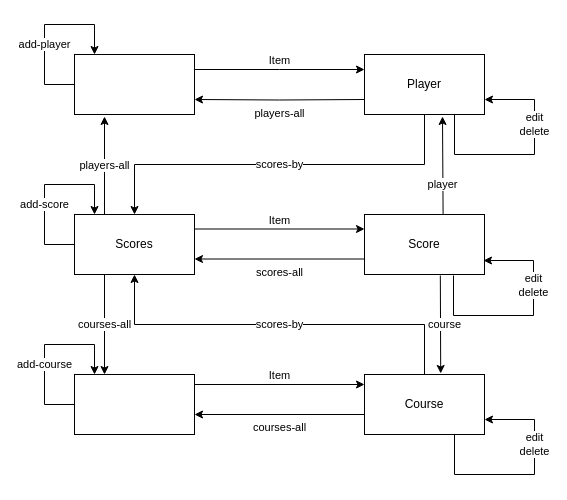
This 567x500 diagram has some shape labels left out. Each missing label, with the centre of its shape:
"Courses" goes at (x=134, y=404).
"Players" goes at (x=134, y=84).
